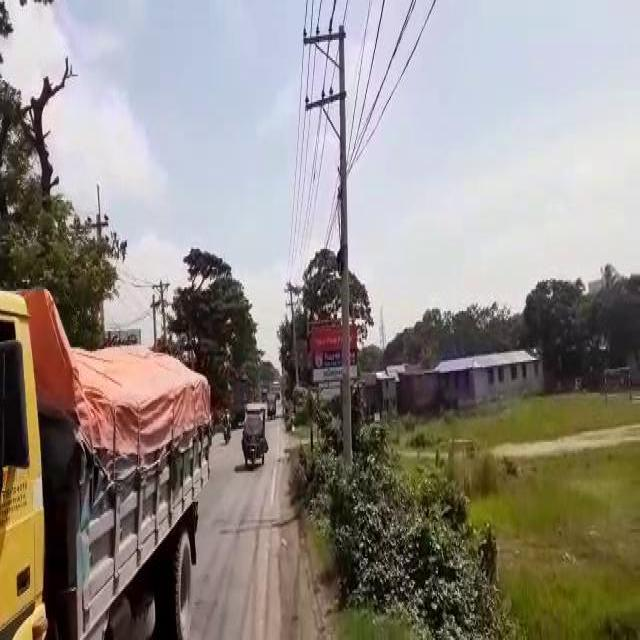10: (218, 409, 232, 442)
18: (2, 290, 208, 637)
Car: (240, 401, 268, 464), (264, 392, 274, 414)
